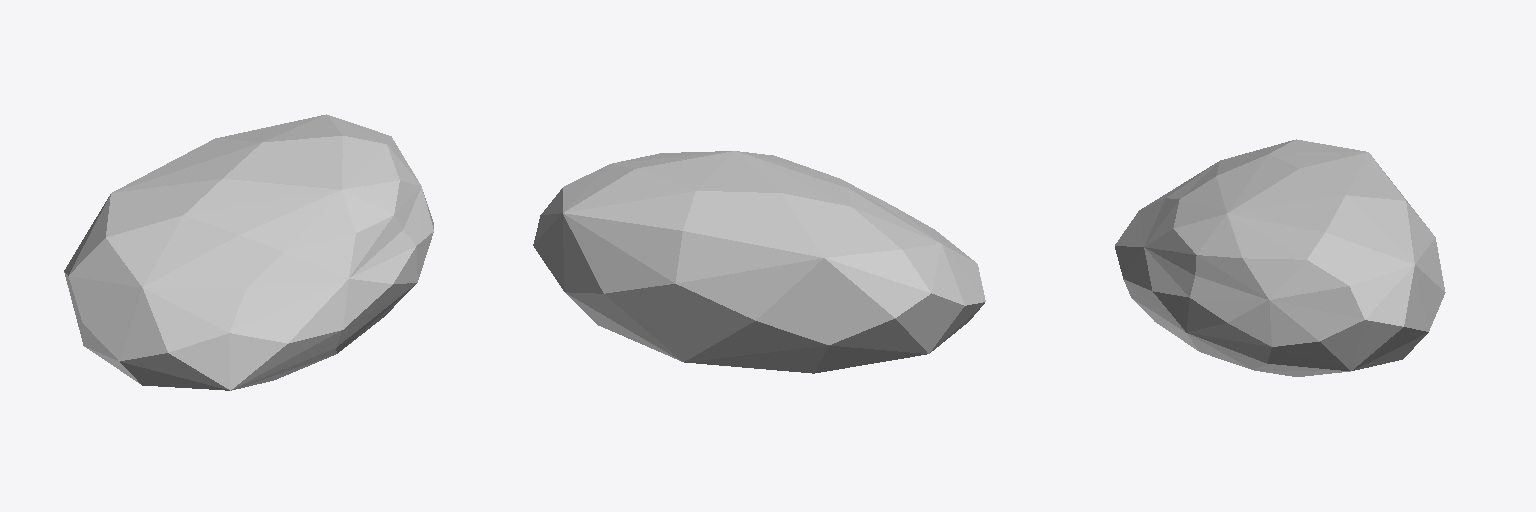
Rendered from Roca2.obj.
3 renders of one model, left to right at view 1: azimuth 30°, elevation 25°; view 2: azimuth 150°, elevation 25°; view 3: azimuth 270°, elevation 25°, orthographic.
Parts seen in each view (by area): view 1: Icosphere.001; view 2: Icosphere.001; view 3: Icosphere.001.
Part boxes in pixels (left/top/right/bottom): Icosphere.001: left=64, top=114, right=433, bottom=390; Icosphere.001: left=533, top=151, right=985, bottom=373; Icosphere.001: left=1115, top=139, right=1445, bottom=376.
Size of the model in its own units: 1.37 by 0.5632 by 1.06.